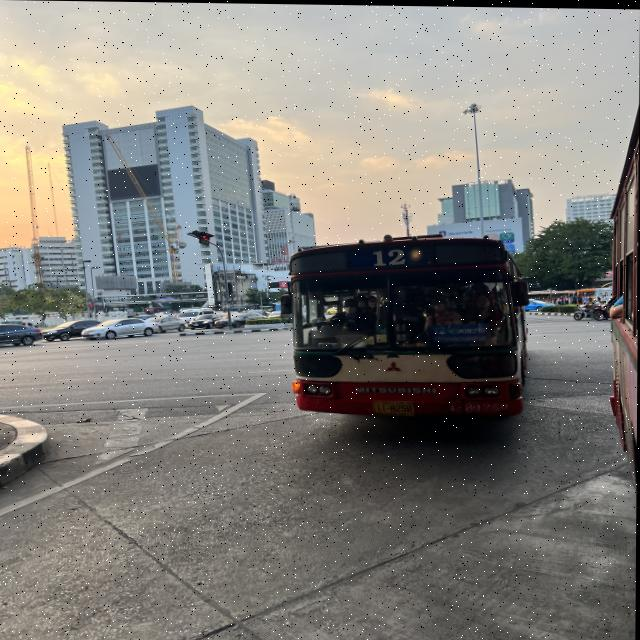BMTA-bus: (283, 233, 530, 421)
Bus Line Number: (364, 243, 420, 268)
Bus Side Number: (445, 399, 514, 415)
Destination Sign: (430, 324, 492, 344)
